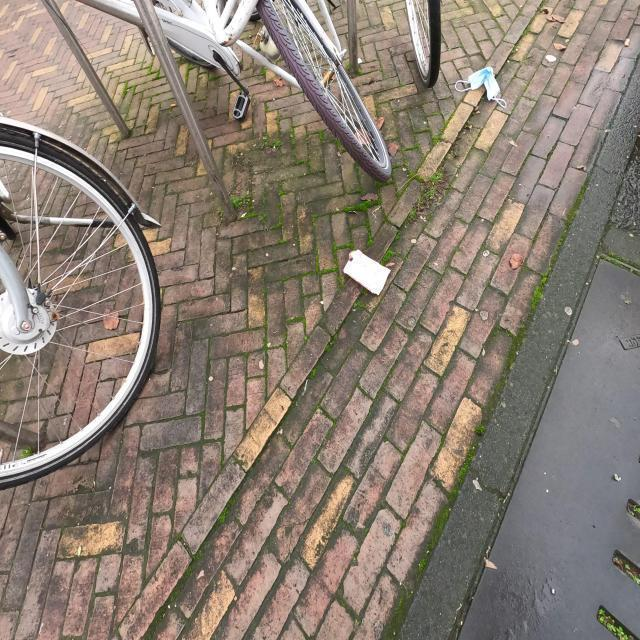Mask: (454, 65, 508, 108)
Plastic: (342, 248, 392, 296)
